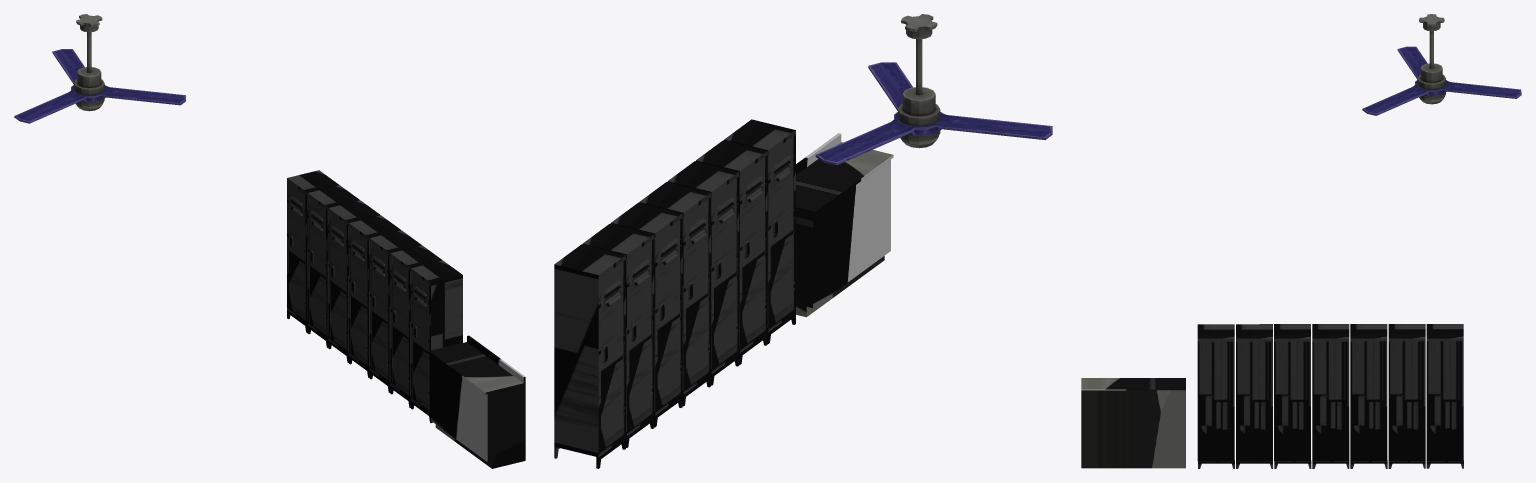
File: Science_Lab_Prop.fbx
3 renders of one model, left to right at view 1: azimuth 30°, elevation 25°; view 2: azimuth 150°, elevation 25°; view 3: azimuth 270°, elevation 25°, orthographic. The views are drawn at different scales.
Visible parts, largest first — view 1: Locker1, Cabinet, Fan2; view 2: Locker1, Cabinet, Fan2; view 3: Locker1, Cabinet, Fan2.
Part boxes in pixels (x1,y1,x2,y2): Locker1: [287, 170, 462, 422]; Cabinet: [429, 335, 525, 468]; Fan2: [14, 14, 185, 123]; Locker1: [554, 119, 795, 468]; Cabinet: [796, 133, 893, 317]; Fan2: [815, 14, 1052, 165]; Locker1: [1197, 324, 1463, 468]; Cabinet: [1081, 378, 1185, 468]; Fan2: [1362, 14, 1521, 115].
Bounding box in the file's own units: 987 × 1037 × 1226.
